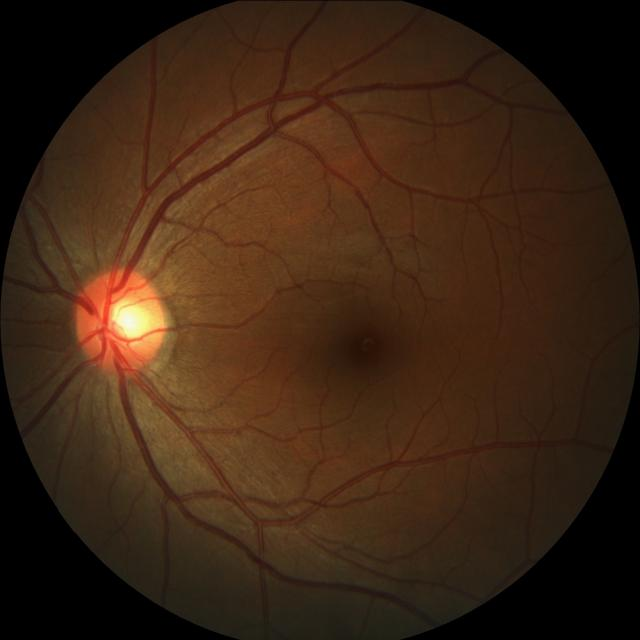OC: (102, 295, 151, 342)
OD: (75, 266, 168, 374)
